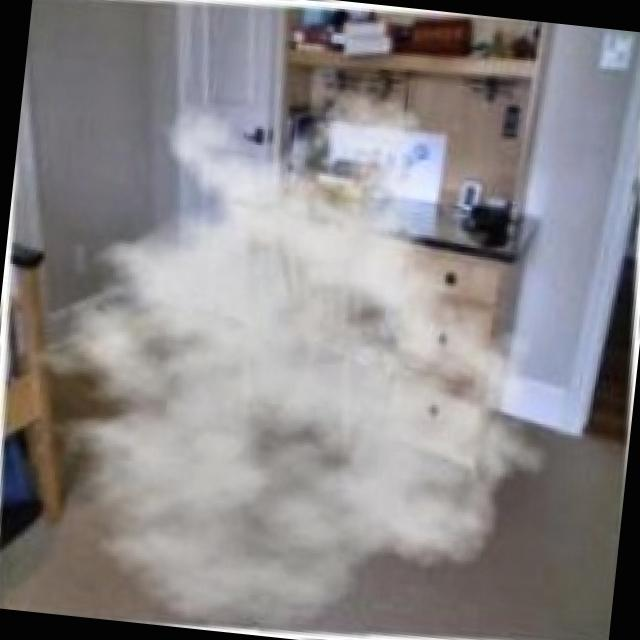smoke: (86, 172, 447, 540)
